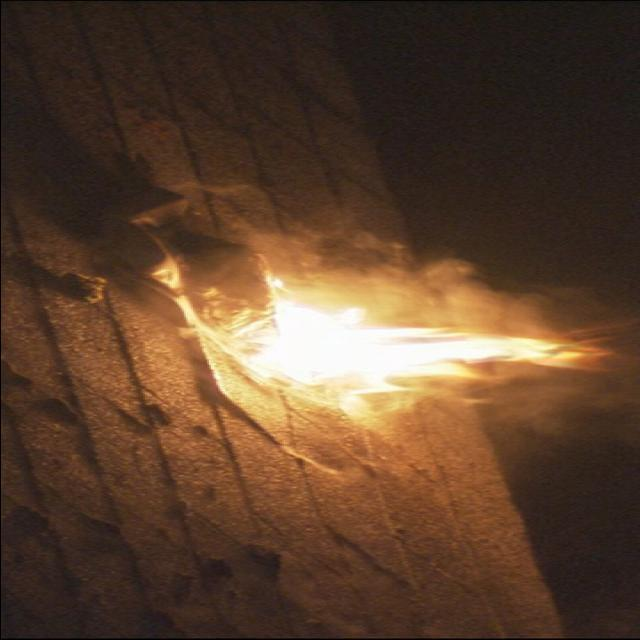Fire: (199, 280, 603, 417)
